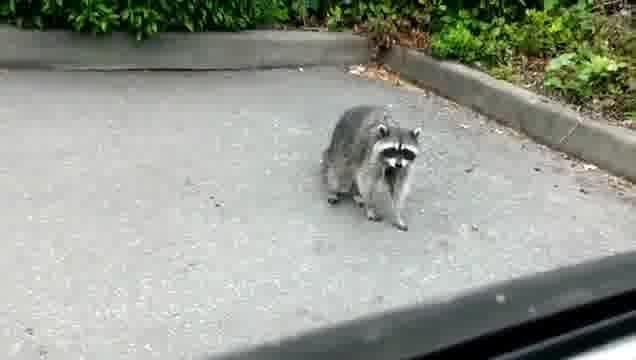raccoon: (308, 104, 426, 236)
